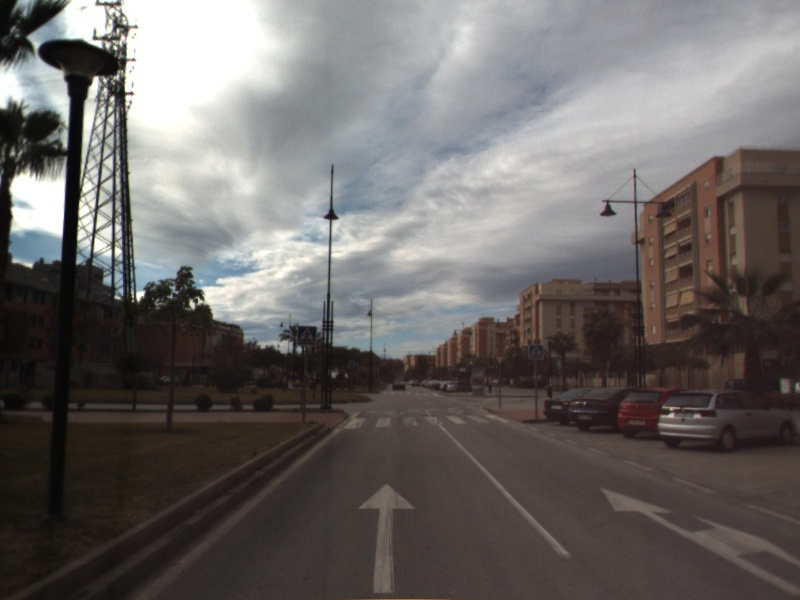STRAIGHT: (356, 481, 417, 595)
STRAIGHT_RIGHT: (599, 486, 800, 597)
